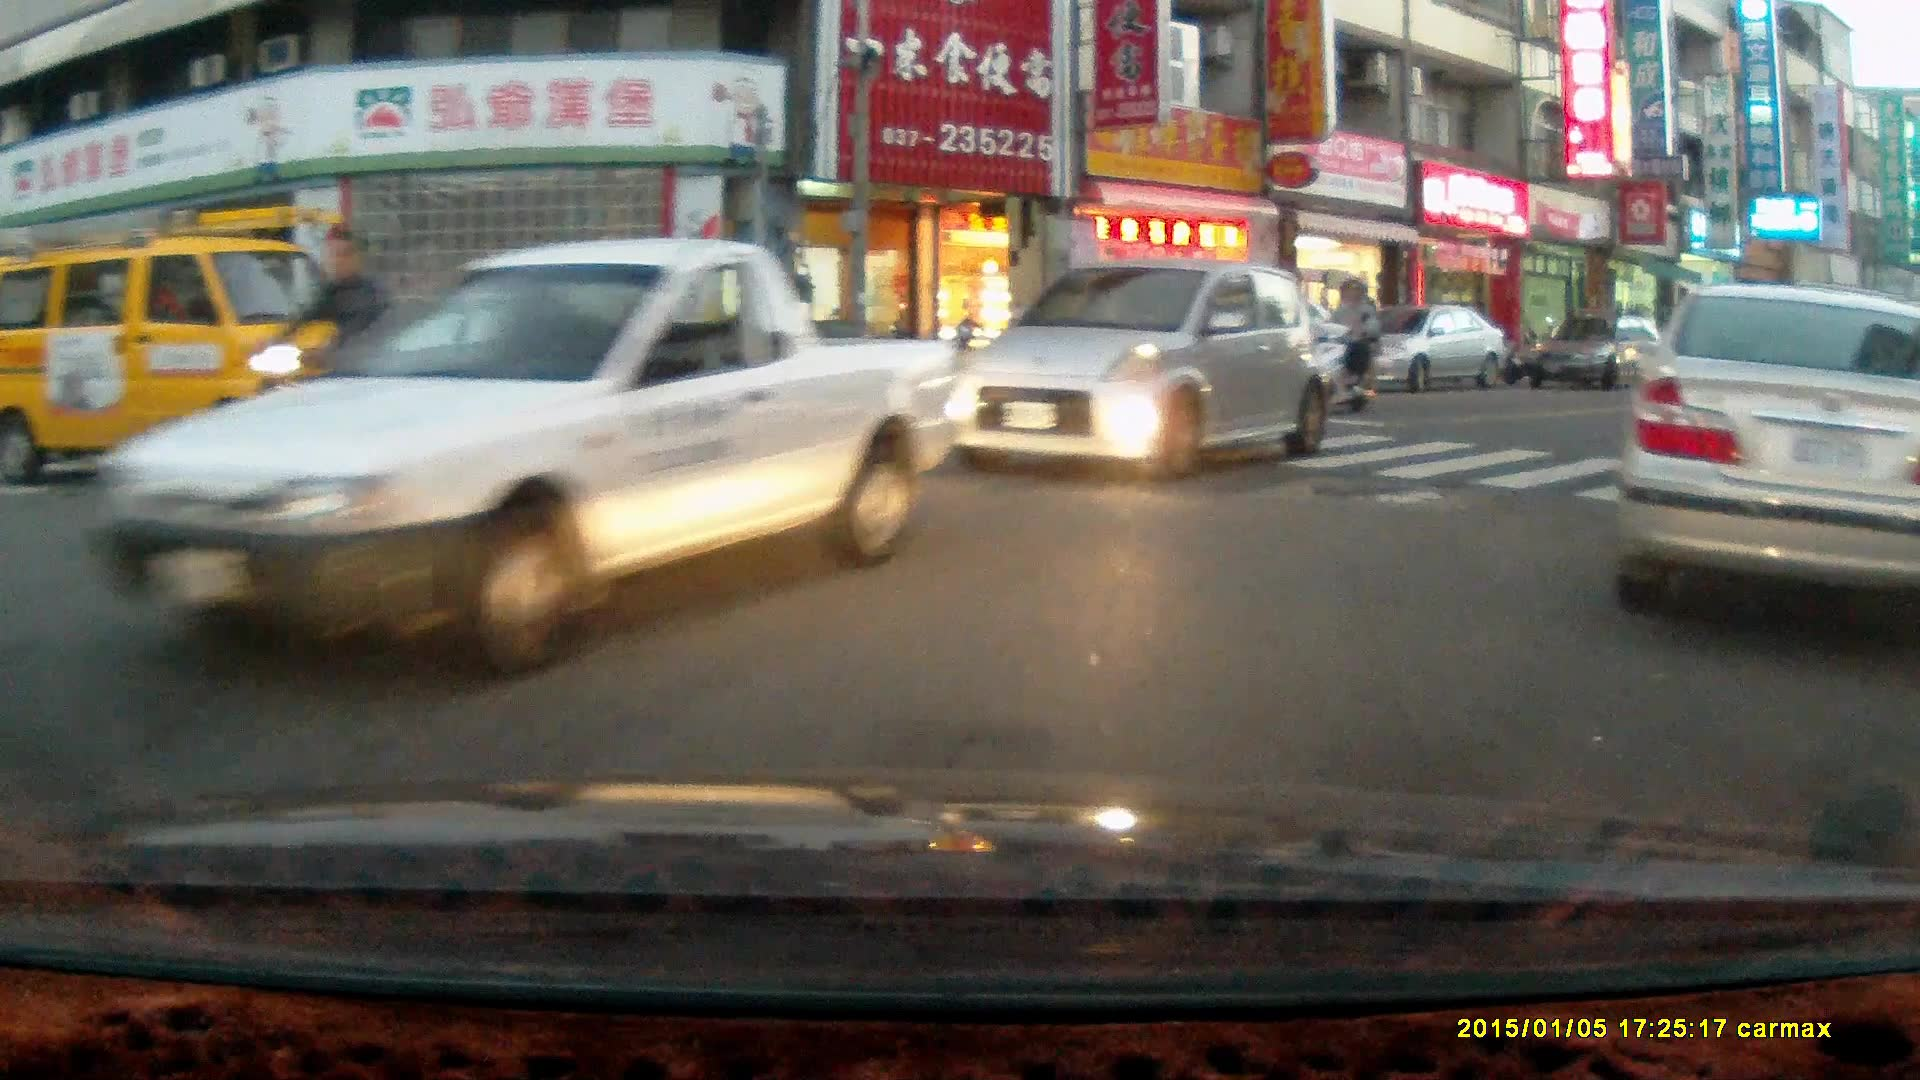rider: (226, 225, 457, 494), (1308, 268, 1380, 417)
vehicle: (55, 234, 966, 691), (1, 204, 405, 490), (1624, 280, 1912, 650), (938, 257, 1336, 484), (1354, 304, 1506, 390), (1520, 314, 1671, 389)
